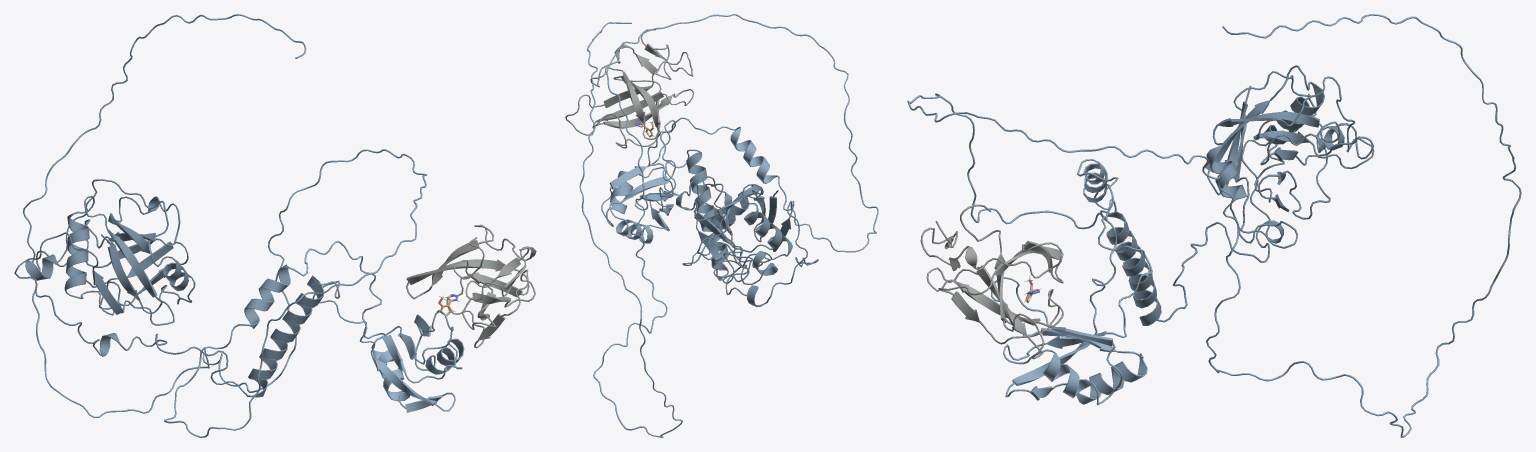
Rendered from negctrl_no_crbn_ppil4_arm.glb.
The picture shows the model from 3 angles, left to right: view 1: azimuth 30°, elevation 25°; view 2: azimuth 150°, elevation 25°; view 3: azimuth 270°, elevation 25°; orthographic projection. The views are drawn at different scales.
Visible parts, largest first — view 1: node-geom33, node-geom34; view 2: node-geom33, node-geom34; view 3: node-geom33, node-geom34.
Boxes of the visible parts, x1=… form: node-geom33: x1=14, y1=179, x2=536, y2=397; node-geom34: x1=23, y1=14, x2=464, y2=437; node-geom33: x1=565, y1=29, x2=818, y2=307; node-geom34: x1=579, y1=14, x2=878, y2=437; node-geom33: x1=920, y1=65, x2=1374, y2=359; node-geom34: x1=907, y1=14, x2=1521, y2=437.
Size of the model in its own units: 109 by 105 by 127.
